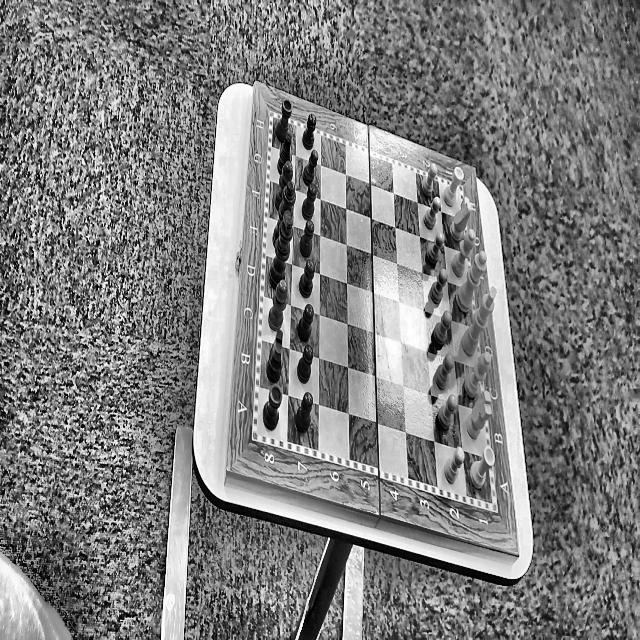chessboard: (258, 116, 491, 499)
